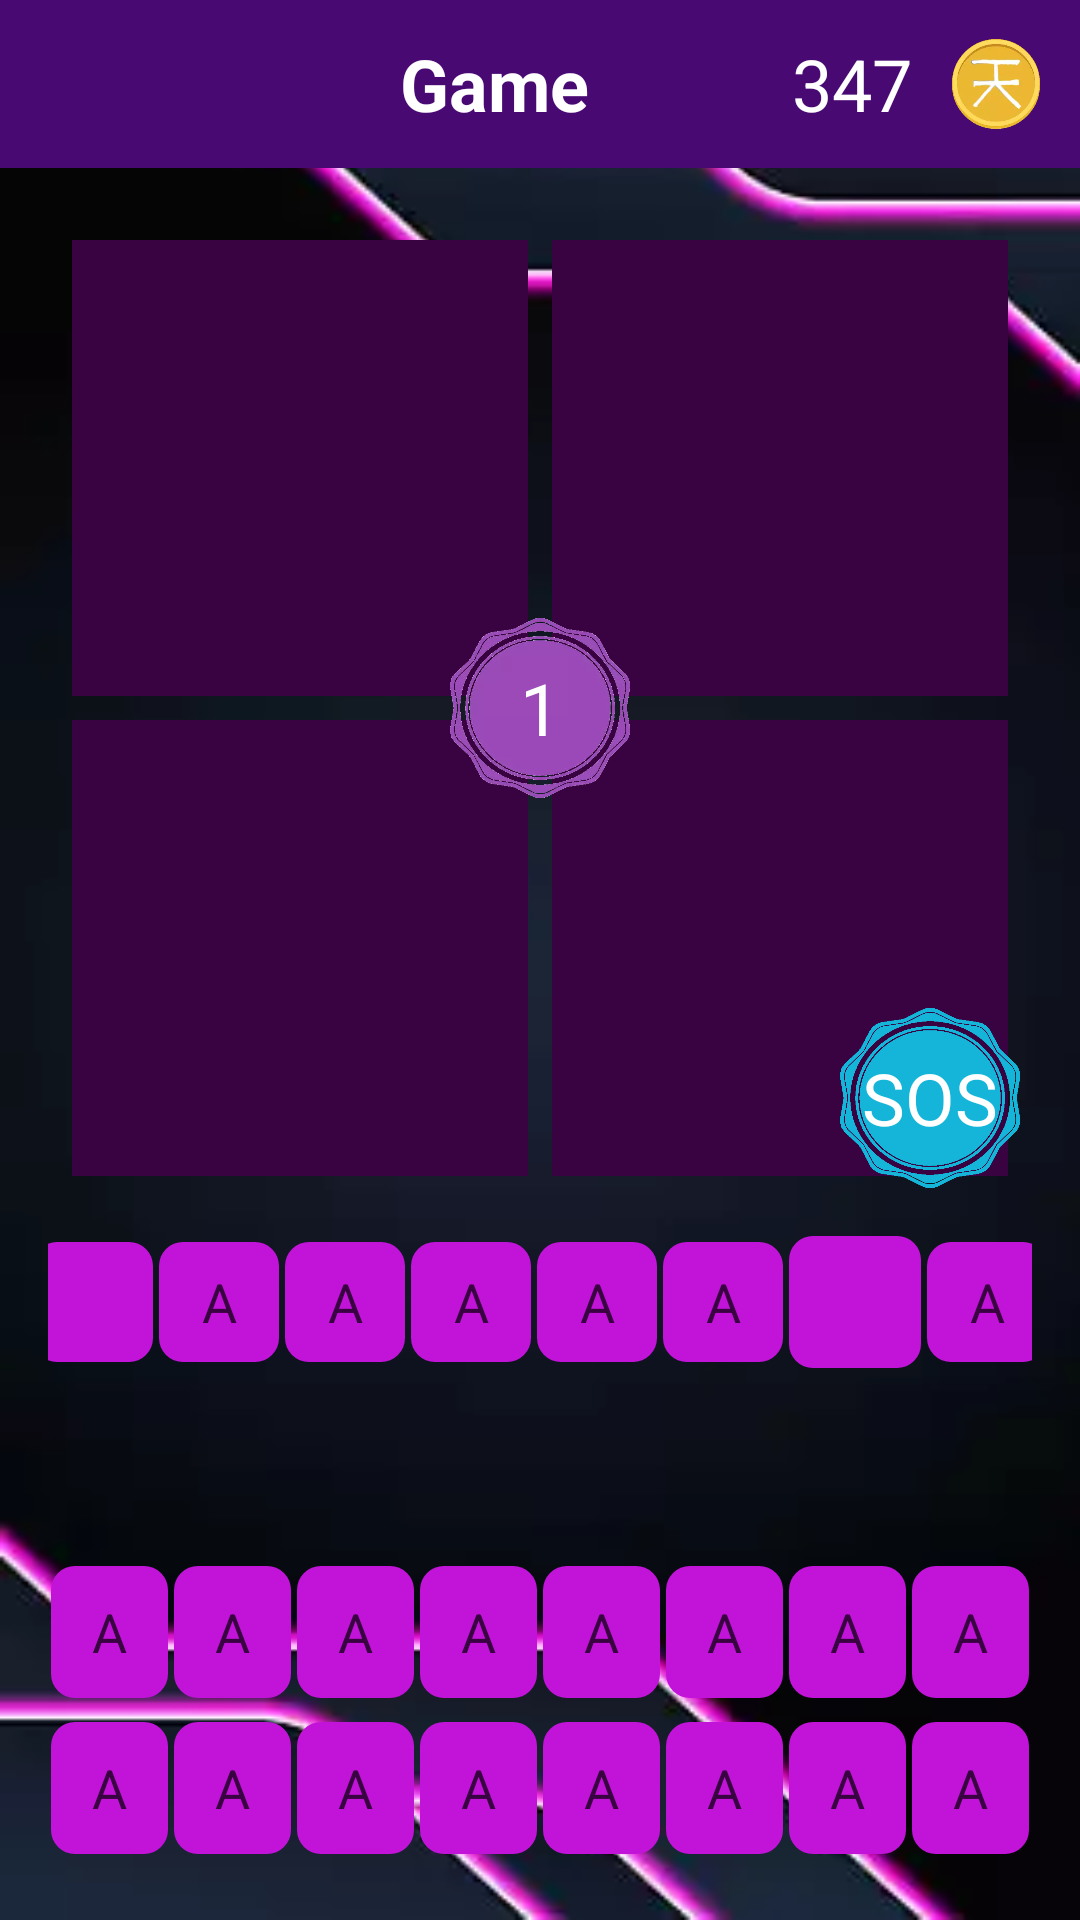

Icons on this 1080×1920 Android screen, each with its box as bbox=[x1, y1, x2, y2]:
khancoin: bbox=[952, 39, 1040, 129]
